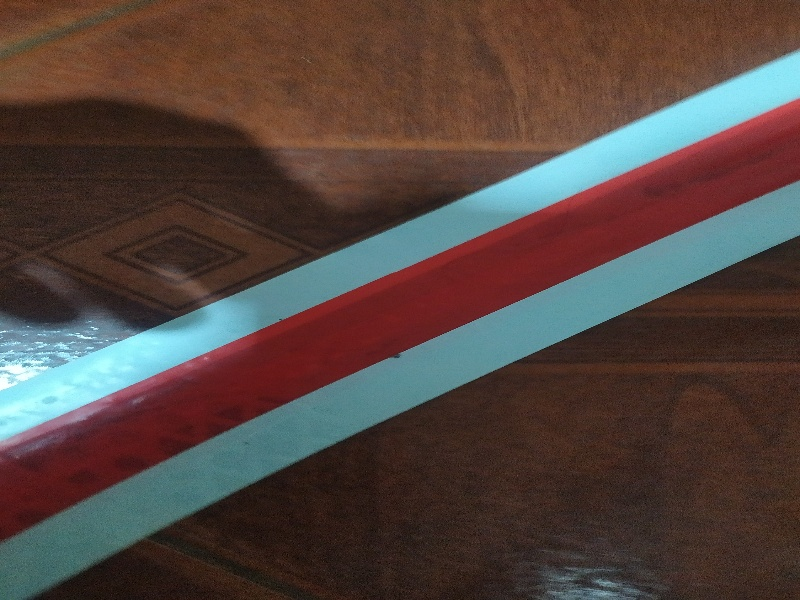saindoEsquerda: (8, 46, 800, 596)
